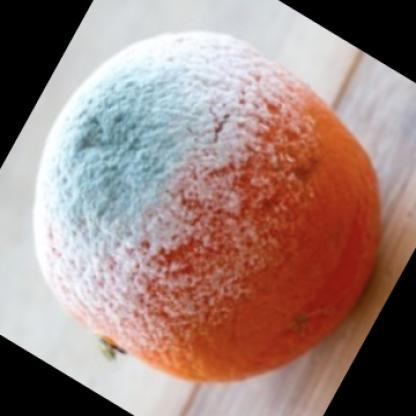rotten: (34, 32, 382, 387)
